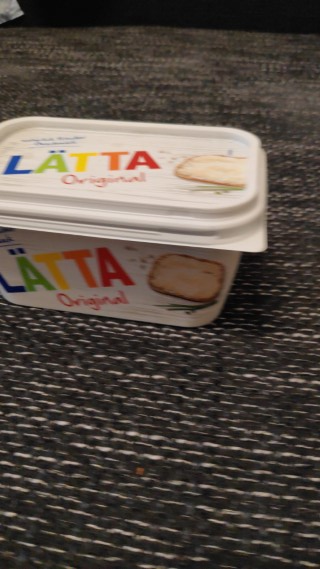laetta: (1, 117, 270, 328)
